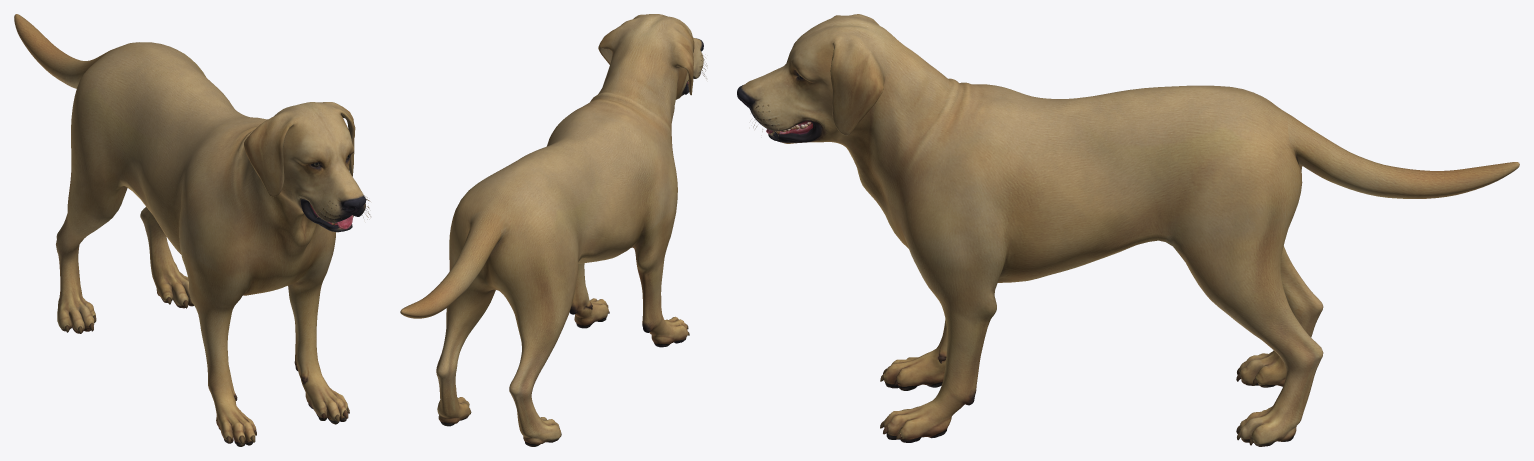
The model's file is dog1.glb.
The picture shows the model from 3 angles, left to right: view 1: azimuth 30°, elevation 25°; view 2: azimuth 150°, elevation 25°; view 3: azimuth 270°, elevation 25°; orthographic projection. The views are drawn at different scales.
Visible parts, largest first — view 1: Object_5; view 2: Object_5; view 3: Object_5.
Part boxes in pixels (x1,y1,x2,y2): Object_5: [14, 14, 370, 446]; Object_5: [400, 14, 707, 446]; Object_5: [737, 14, 1519, 446].
Size of the model in its own units: 0.2187 by 0.512 by 0.933.
1 material, 1 textured.
